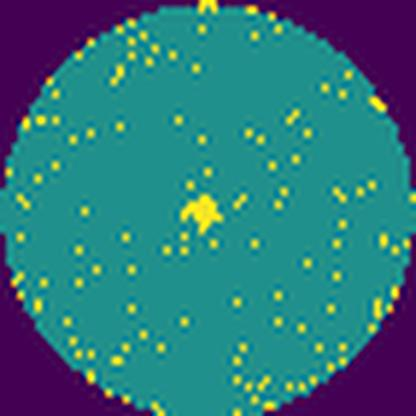Center: (180, 192, 226, 236)
